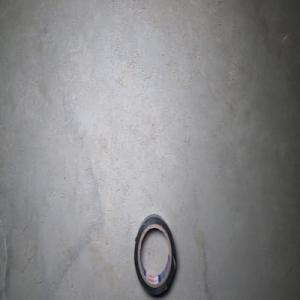Tape: (134, 213, 176, 297)
